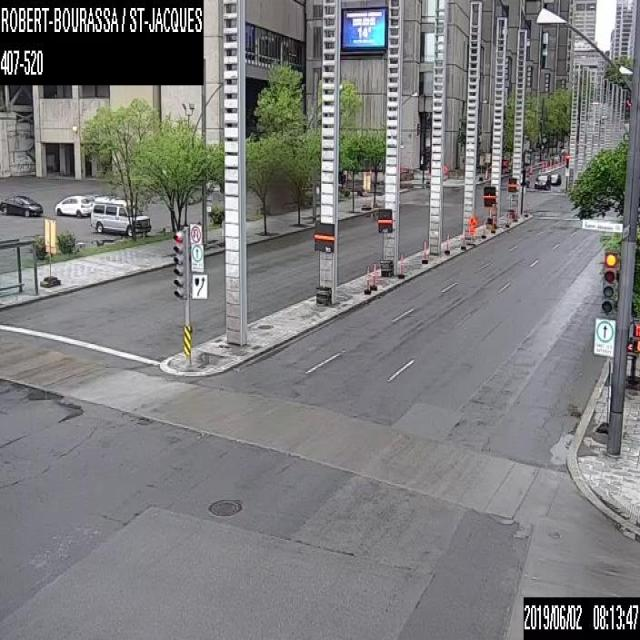construction: (461, 213, 476, 244), (442, 164, 447, 180), (400, 254, 404, 274), (366, 266, 369, 290), (372, 264, 375, 285), (424, 238, 427, 258), (506, 211, 510, 224), (492, 214, 495, 230), (446, 234, 449, 250), (482, 224, 485, 236), (514, 210, 517, 218)
vehicle: (90, 196, 151, 237), (0, 191, 42, 217), (54, 194, 91, 216), (533, 172, 549, 188), (550, 172, 561, 184)
